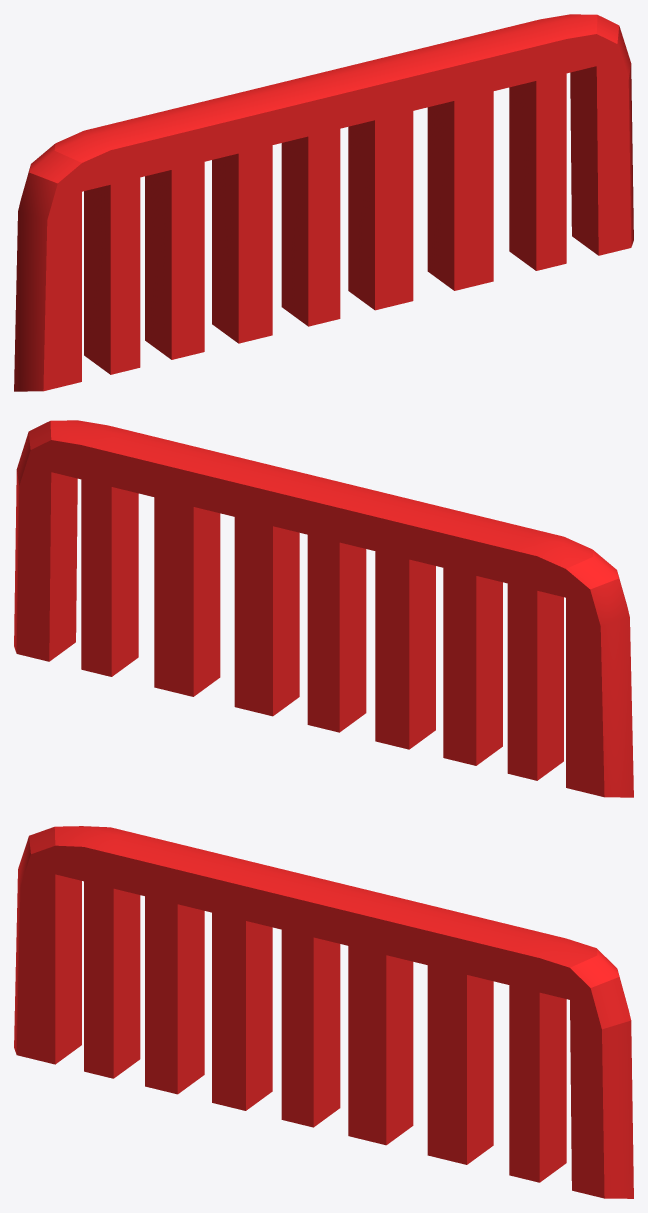
Rendered from Railing.fbx.
3 views of the same model, one above another, from view 1: azimuth 30°, elevation 25°; view 2: azimuth 150°, elevation 25°; view 3: azimuth 330°, elevation 25° (orthographic).
Visible parts, largest first — view 1: Railing_20; view 2: Railing_20; view 3: Railing_20.
Part boxes in pixels (x1,y1,x2,y2): Railing_20: (14, 14, 633, 391); Railing_20: (14, 420, 633, 797); Railing_20: (14, 826, 633, 1198).
Bounding box in the file's own units: 0.8481 × 0.3097 × 0.0634.
